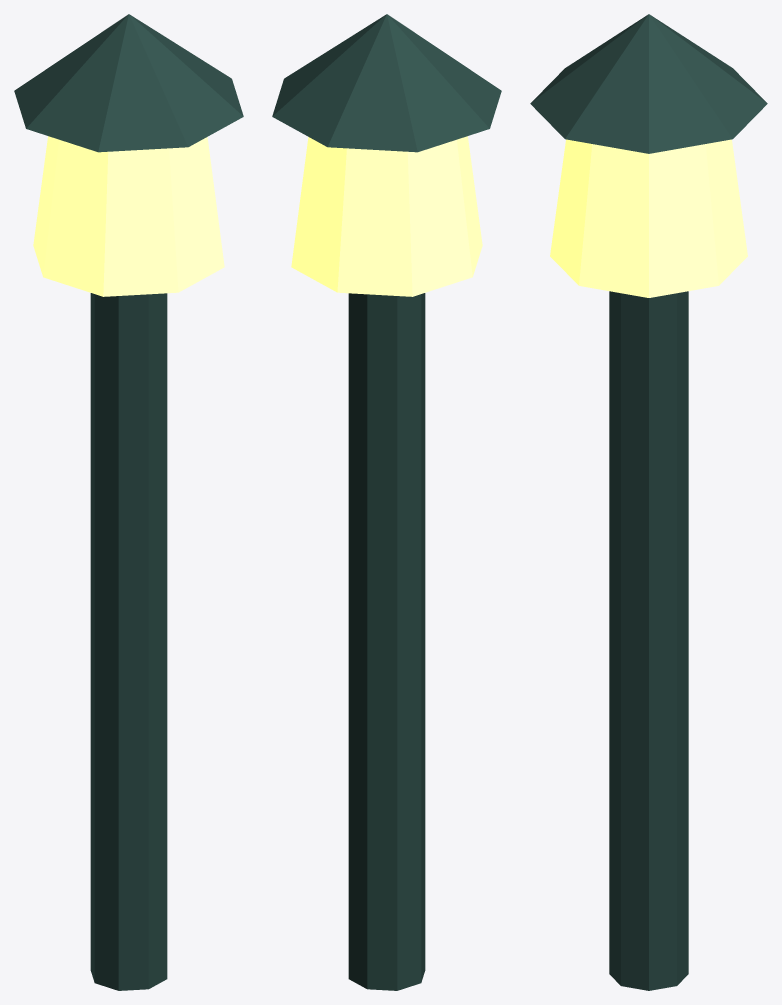
The model's file is park_lamp.glb.
The picture shows the model from 3 angles, left to right: view 1: azimuth 30°, elevation 25°; view 2: azimuth 150°, elevation 25°; view 3: azimuth 270°, elevation 25°; orthographic projection.
Visible parts, largest first — view 1: park_lamp; view 2: park_lamp; view 3: park_lamp.
Boxes of the visible parts, bbox=[...] form: park_lamp: bbox=[14, 14, 243, 990]; park_lamp: bbox=[272, 14, 501, 990]; park_lamp: bbox=[530, 14, 767, 990].
Bounding box in the file's own units: 0.6 × 2.67 × 0.6.
